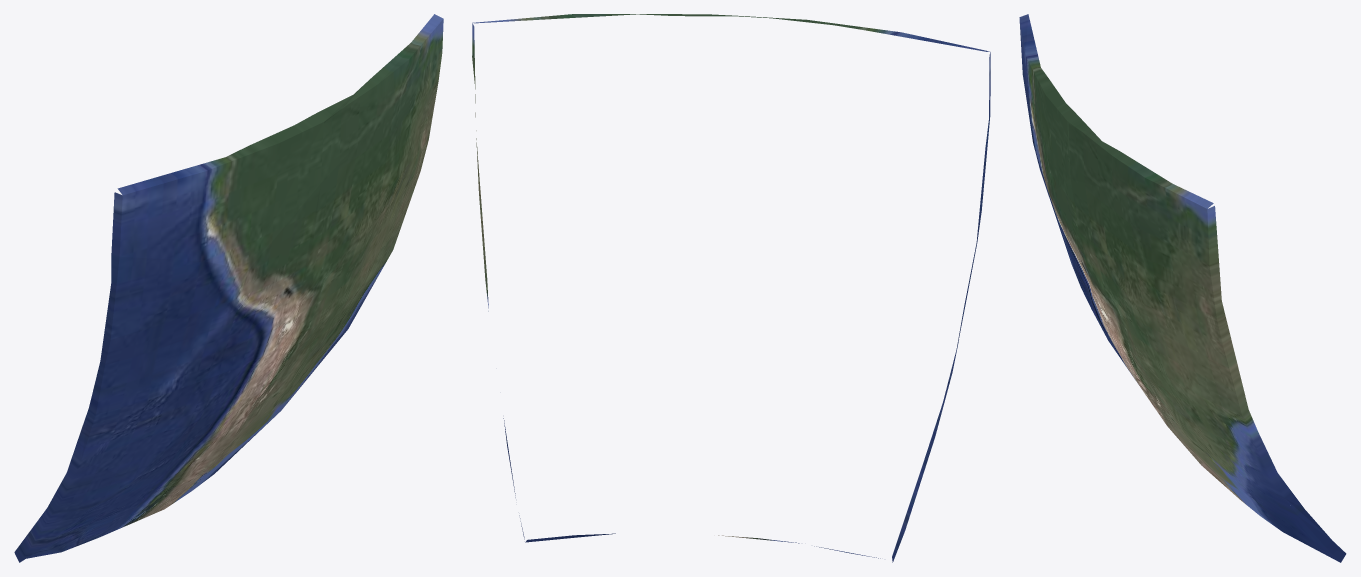
3 renders of one model, left to right at view 1: azimuth 30°, elevation 25°; view 2: azimuth 150°, elevation 25°; view 3: azimuth 270°, elevation 25°, orthographic. The views are drawn at different scales.
Size of the model in its own units: 4581866 by 4566194 by 3265264.
Materials: 1 (1 with a texture image).
